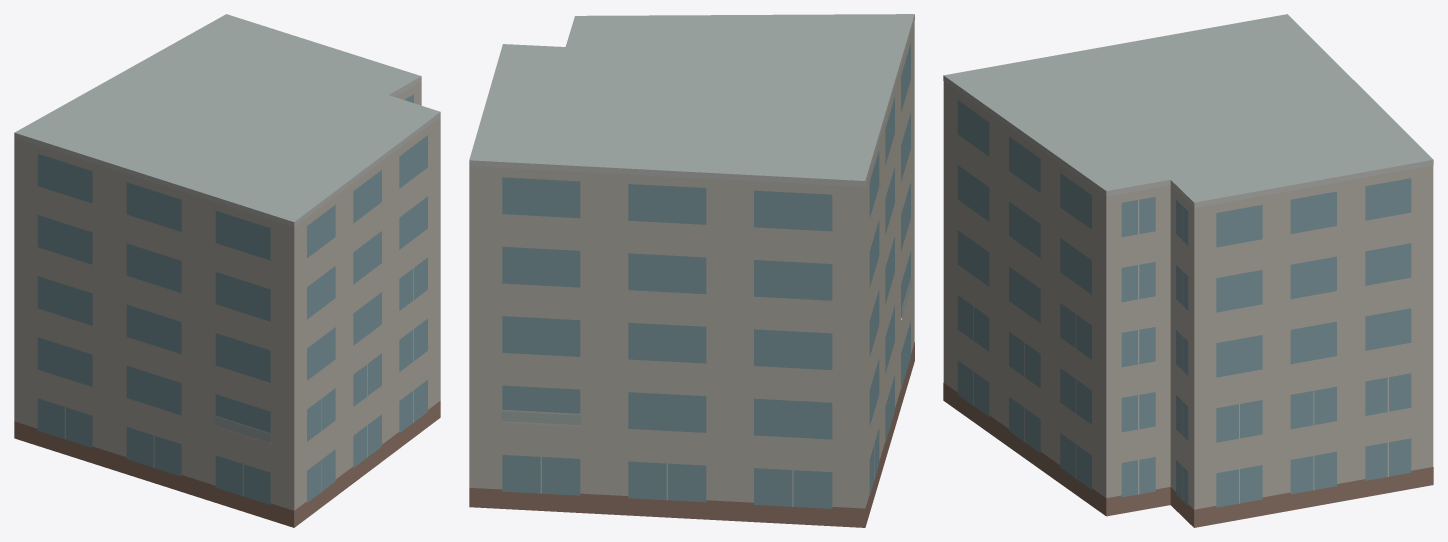
File: survey-upis-33021467.glb
The picture shows the model from 3 angles, left to right: view 1: azimuth 30°, elevation 25°; view 2: azimuth 150°, elevation 25°; view 3: azimuth 270°, elevation 25°; orthographic projection. The views are drawn at different scales.
Visible parts, largest first — view 1: survey-upis-33021467.tmp; view 2: survey-upis-33021467.tmp; view 3: survey-upis-33021467.tmp.
Part boxes in pixels (x1,y1,x2,y2): survey-upis-33021467.tmp: [14, 14, 440, 527]; survey-upis-33021467.tmp: [469, 14, 914, 527]; survey-upis-33021467.tmp: [943, 14, 1433, 527].
Size of the model in its own units: 18.05 by 14.5 by 19.81.
